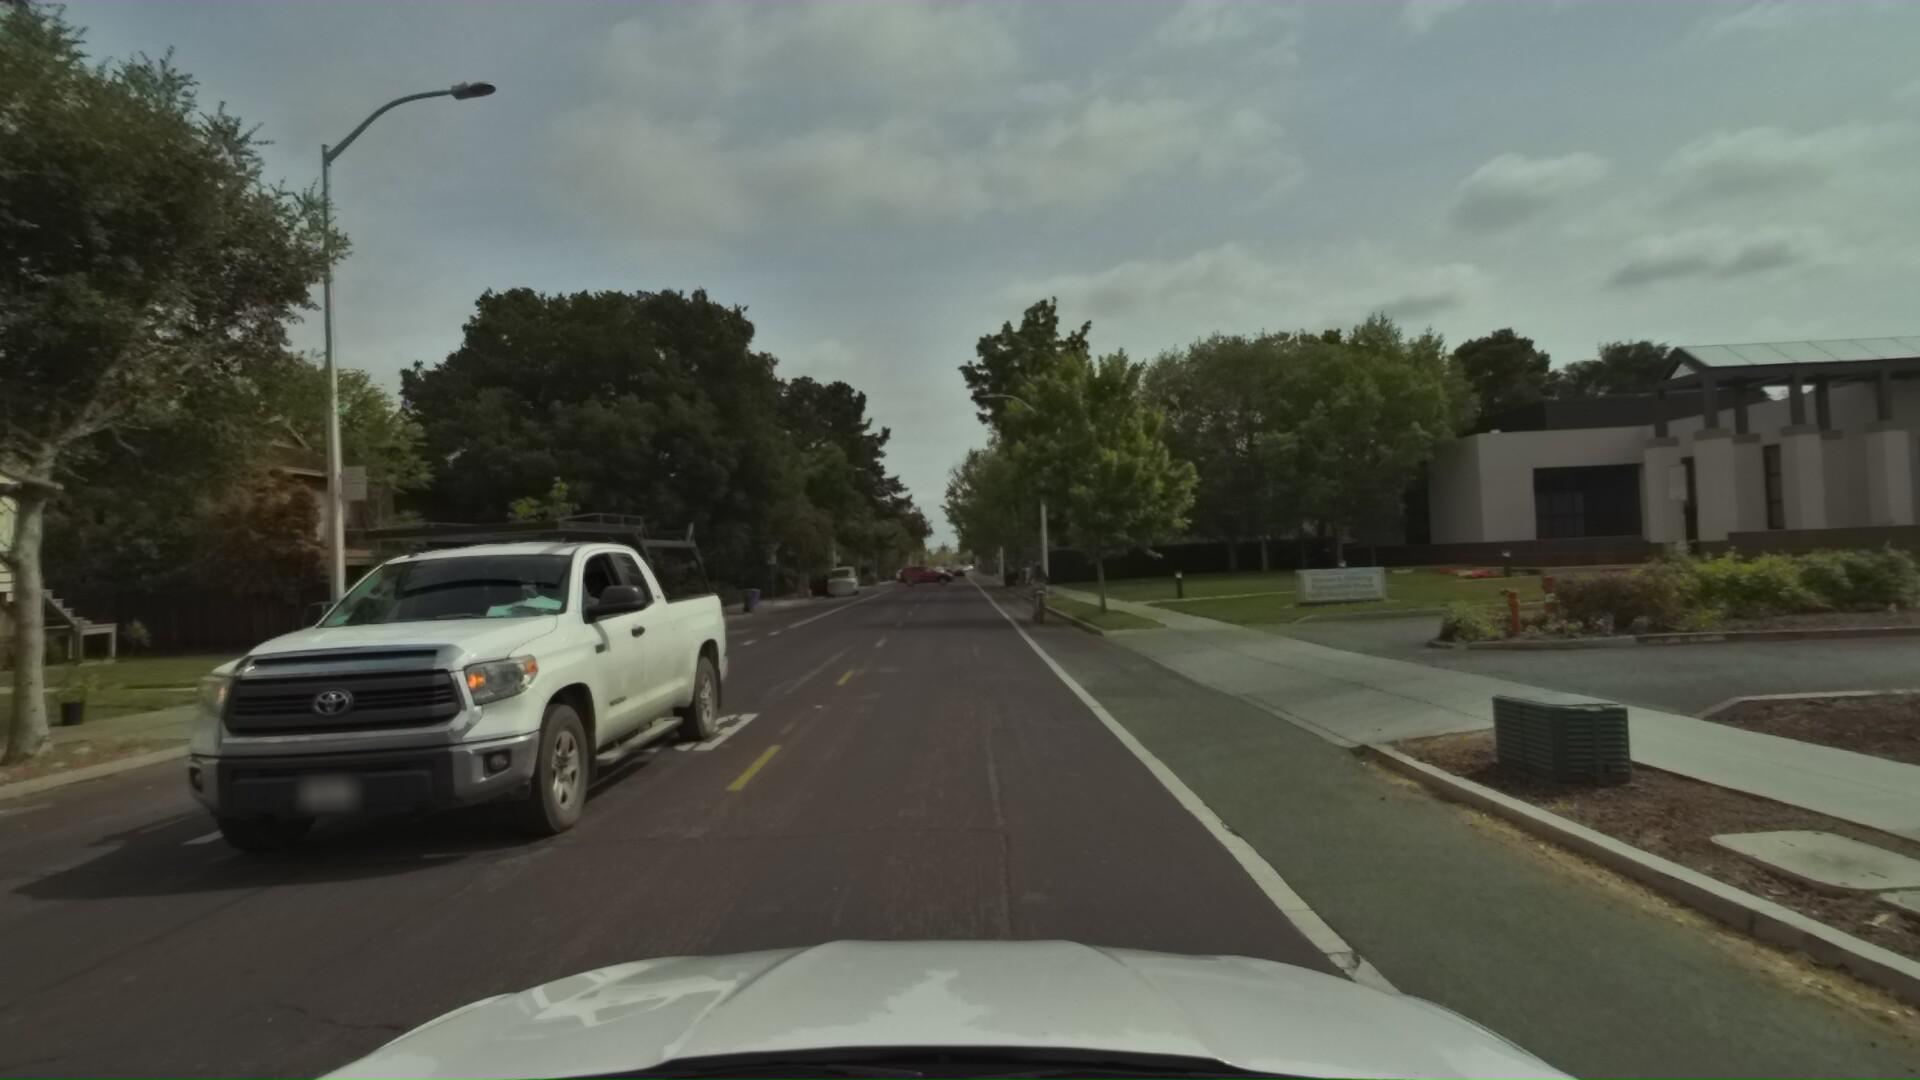bicycle: (1013, 558, 1062, 626)
car: (42, 452, 724, 934), (282, 567, 580, 749), (895, 563, 963, 592), (823, 564, 862, 600)
